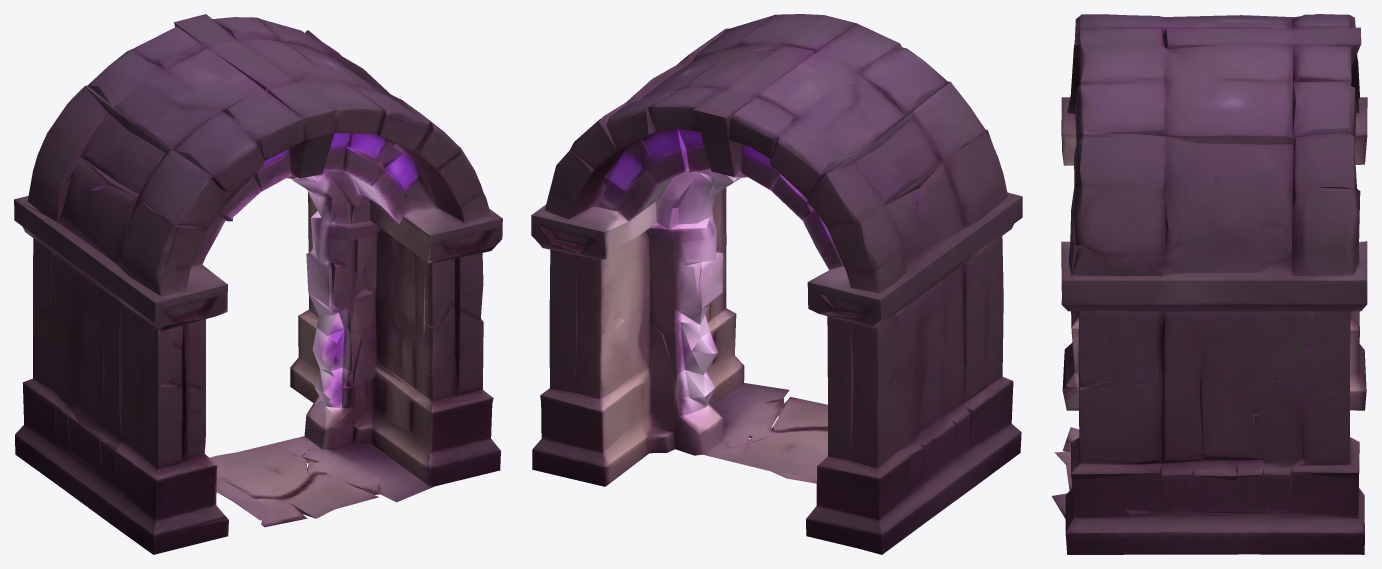
Rendered from m2CaveTempleArch.glb.
3 views of the same model, side by side, from view 1: azimuth 30°, elevation 25°; view 2: azimuth 150°, elevation 25°; view 3: azimuth 270°, elevation 25° (orthographic). The views are drawn at different scales.
Parts seen in each view (by area): view 1: model; view 2: model; view 3: model.
Part boxes in pixels (x1,y1,x2,y2): model: (14, 14, 502, 554); model: (531, 14, 1022, 554); model: (1051, 14, 1367, 554).
Size of the model in its own units: 1.74 by 1.9 by 1.27.
1 material, 1 textured.
